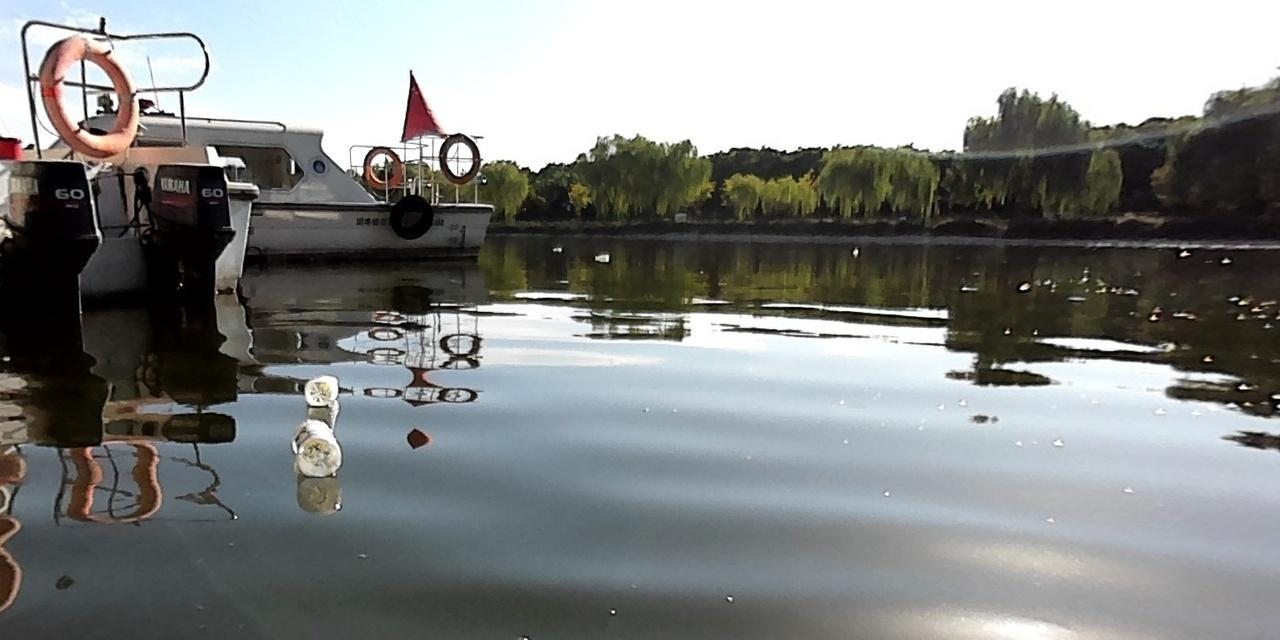bottle: (289, 417, 340, 476), (302, 372, 337, 407), (594, 252, 609, 261)
